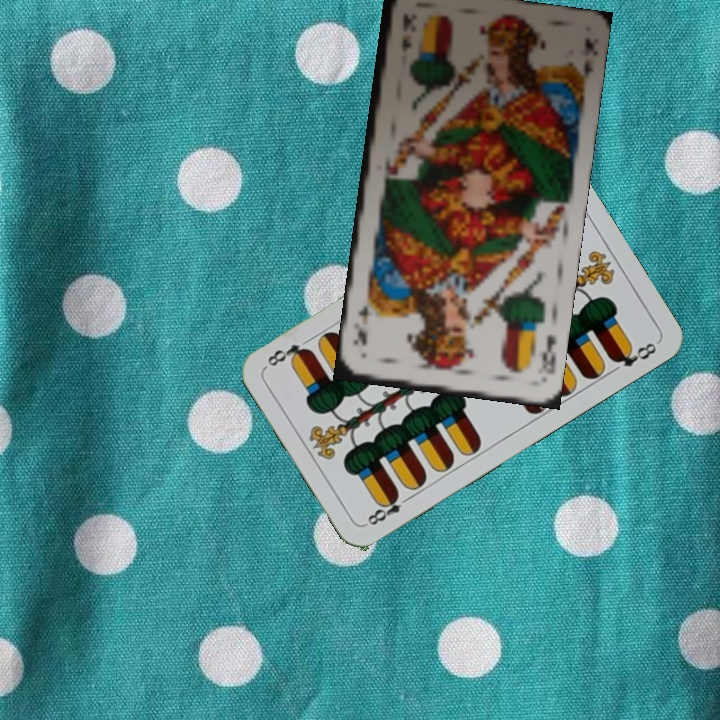E8: (361, 488, 414, 531)
EK: (537, 331, 558, 376), (397, 10, 416, 54)
